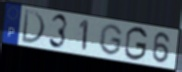1: (78, 19, 89, 53)
3: (47, 13, 73, 50)
6: (152, 31, 172, 65)
D: (20, 8, 47, 46)
G: (123, 26, 149, 62), (97, 23, 124, 57)
